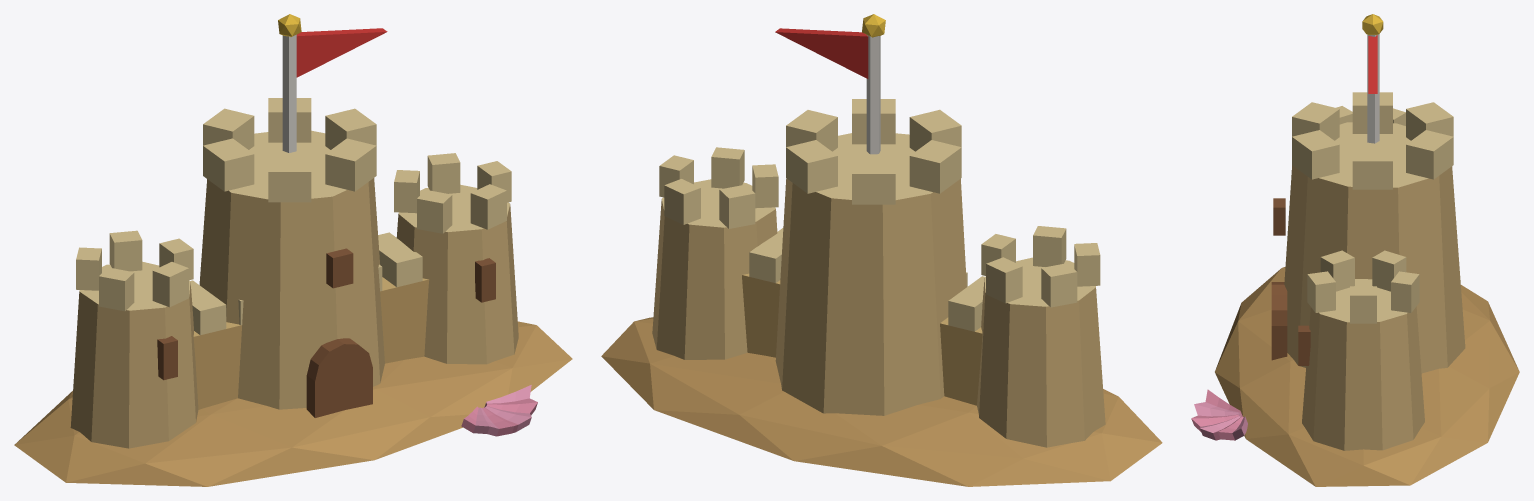
File: habitat_prop_klawdius.fbx
3 views of the same model, side by side, from view 1: azimuth 30°, elevation 25°; view 2: azimuth 150°, elevation 25°; view 3: azimuth 270°, elevation 25° (orthographic). The views are drawn at different scales.
Visible parts, largest first — view 1: habitat_prop_klawdius; view 2: habitat_prop_klawdius; view 3: habitat_prop_klawdius.
Part boxes in pixels (<box>): habitat_prop_klawdius: <box>14,14,572,486</box>; habitat_prop_klawdius: <box>601,14,1162,486</box>; habitat_prop_klawdius: <box>1191,14,1519,486</box>.
Bounding box in the file's own units: 1.76 × 1.27 × 1.06.
